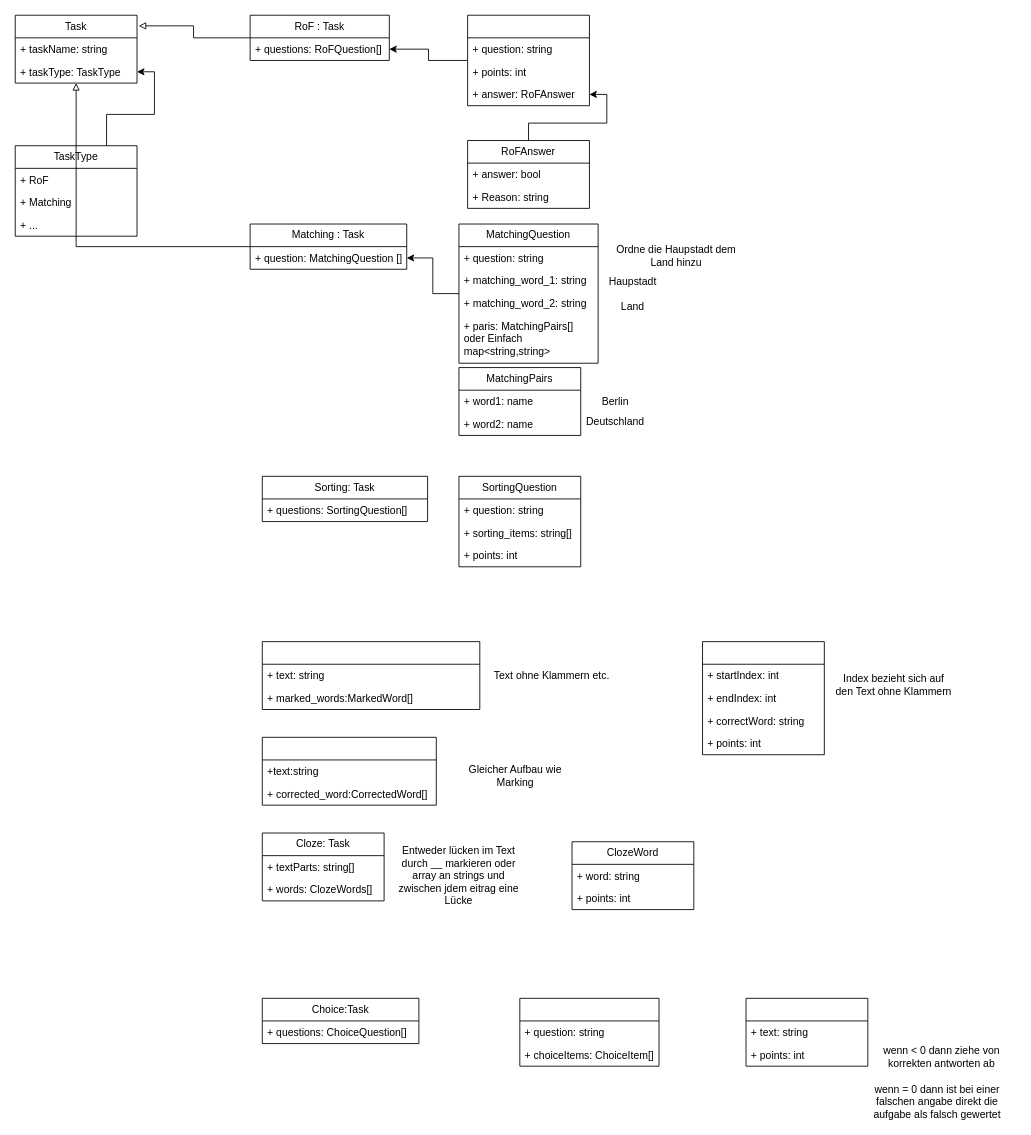
Image size: 1031x1135. Some labels were removed from this diagram. Each missing label, with the box of its shape:
ChoiceItem: (745, 997, 868, 1066)
ChoiceQuestion: (519, 997, 659, 1066)
Correction:Task: (261, 736, 436, 805)
MarkedWord: (702, 641, 824, 755)
Marking: Task: (261, 641, 480, 709)
RoFQuestion: (467, 14, 589, 106)
